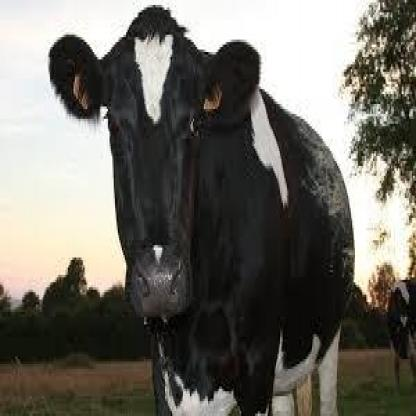cow: (48, 10, 356, 416)
